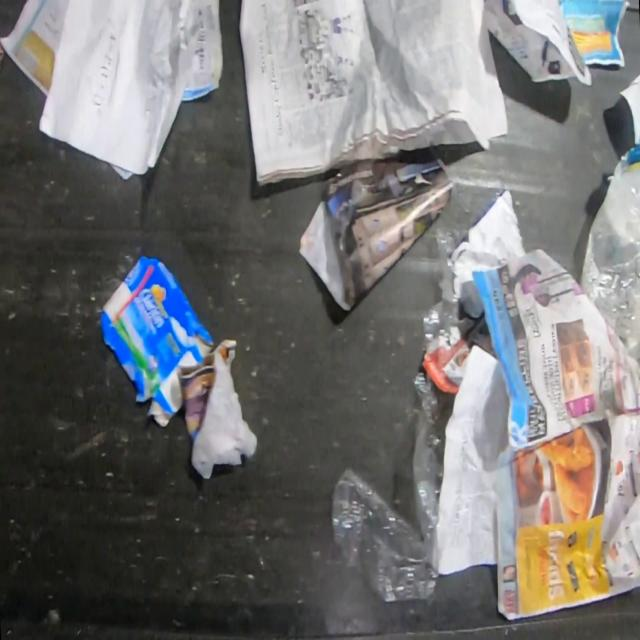cardboard: (100, 255, 216, 428)
soft_plastic: (332, 371, 455, 603), (578, 146, 640, 366), (423, 226, 468, 346), (628, 143, 640, 172)
